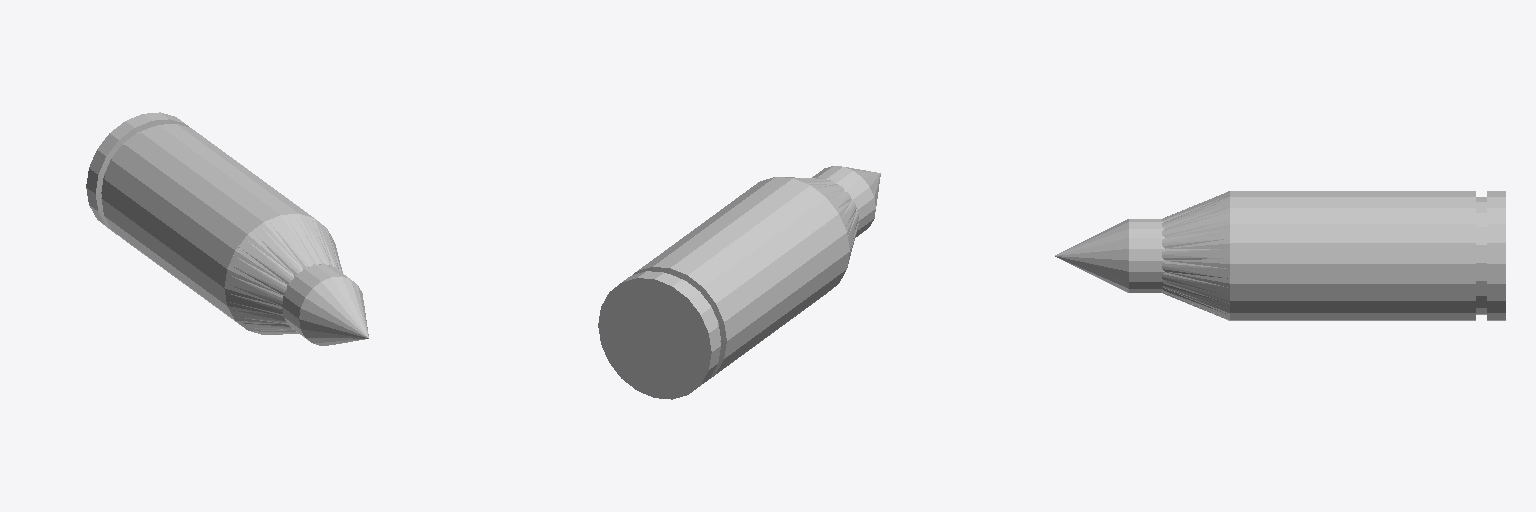
Rendered from bullet22.obj.
The picture shows the model from 3 angles: view 1: azimuth 30°, elevation 25°; view 2: azimuth 150°, elevation 25°; view 3: azimuth 270°, elevation 25°; orthographic projection.
Visible parts, largest first — view 1: bullet2:pCylinder1, bullet2:pCone1; view 2: bullet2:pCylinder1, bullet2:pCone1; view 3: bullet2:pCylinder1, bullet2:pCone1.
Boxes of the visible parts, x1=… form: bullet2:pCylinder1: x1=86, y1=112, x2=342, y2=334; bullet2:pCone1: x1=281, y1=263, x2=368, y2=345; bullet2:pCylinder1: x1=598, y1=177, x2=858, y2=399; bullet2:pCone1: x1=812, y1=166, x2=880, y2=236; bullet2:pCylinder1: x1=1162, y1=191, x2=1505, y2=320; bullet2:pCone1: x1=1055, y1=219, x2=1164, y2=292.
Bounding box in the file's own units: 2 × 2 × 6.9.